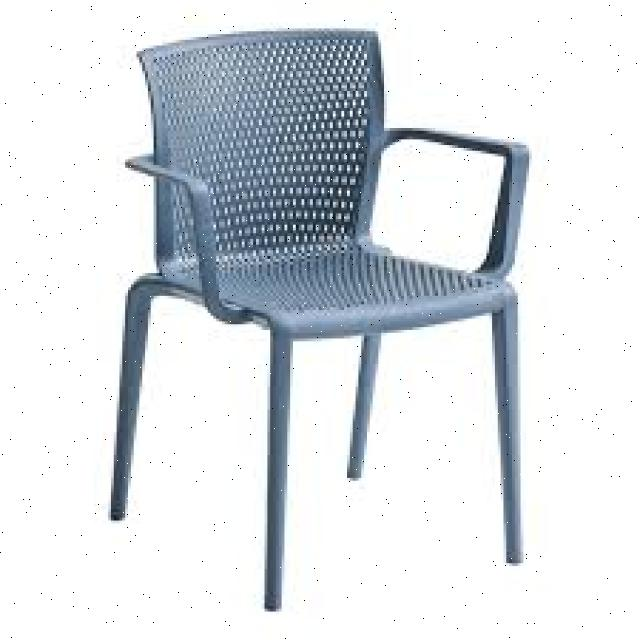bottle: (107, 30, 534, 617)
